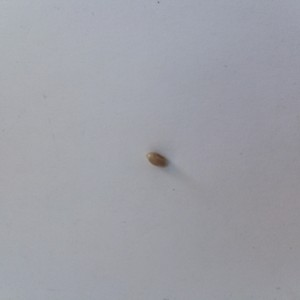trigo: (144, 150, 171, 173)
